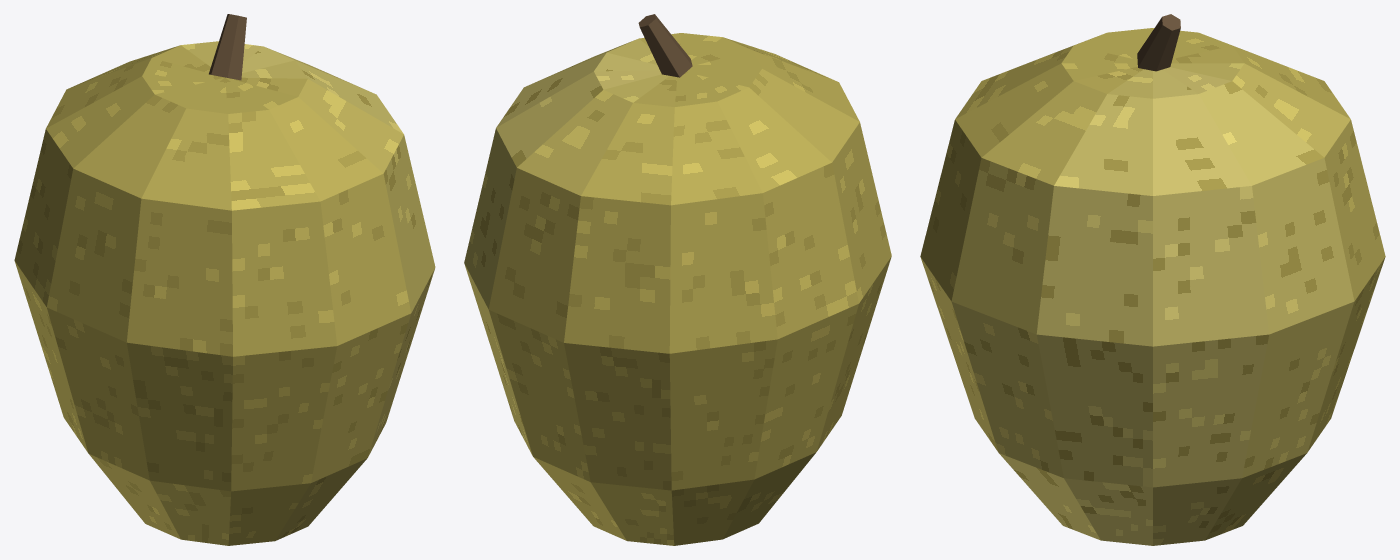
The model's file is mayapple.glb.
3 views of the same model, side by side, from view 1: azimuth 30°, elevation 25°; view 2: azimuth 150°, elevation 25°; view 3: azimuth 270°, elevation 25° (orthographic). The views are drawn at different scales.
Parts seen in each view (by area): view 1: block_mayapple, block_woody stem; view 2: block_mayapple, block_woody stem; view 3: block_mayapple, block_woody stem.
Boxes of the visible parts, x1,y1,x2,y2 form: block_mayapple: (14, 41, 435, 545); block_woody stem: (209, 14, 246, 80); block_mayapple: (464, 33, 891, 545); block_woody stem: (638, 14, 692, 77); block_mayapple: (920, 28, 1385, 545); block_woody stem: (1137, 14, 1180, 71).
Size of the model in its own units: 0.0381 by 0.0491 by 0.0416.
1 material, 1 textured.
